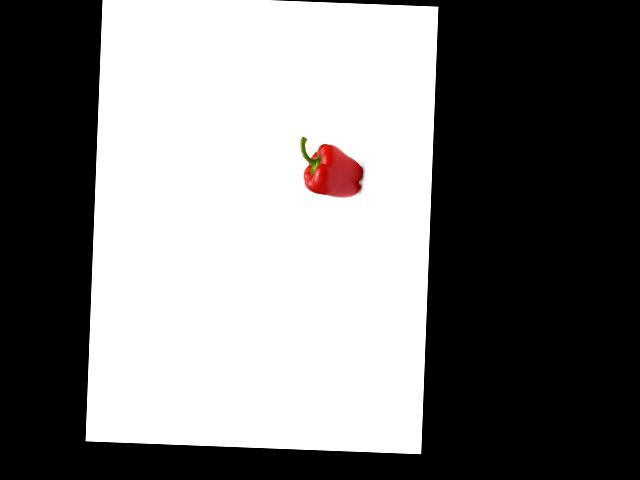bell_pepper: (294, 135, 368, 201)
